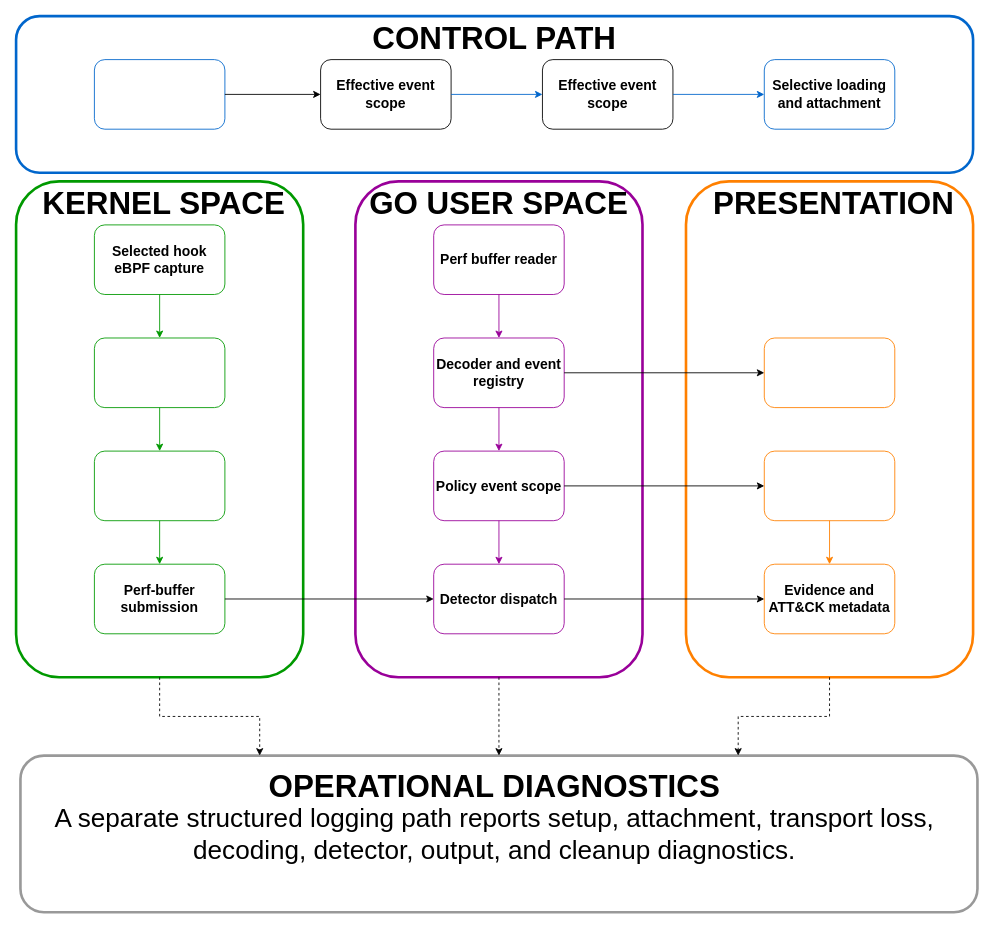
The diagram is 994 pixels wide and 928 high, and some of its shapes have lost their labels. Each missing label, with the centre of its shape:
"Alert output" belongs at [829,485].
"Binary serialisation" belongs at [159,485].
"Configuration and rule validation" belongs at [159,94].
"Optional UID rejection" belongs at [159,372].
"Raw event output" belongs at [829,372].
